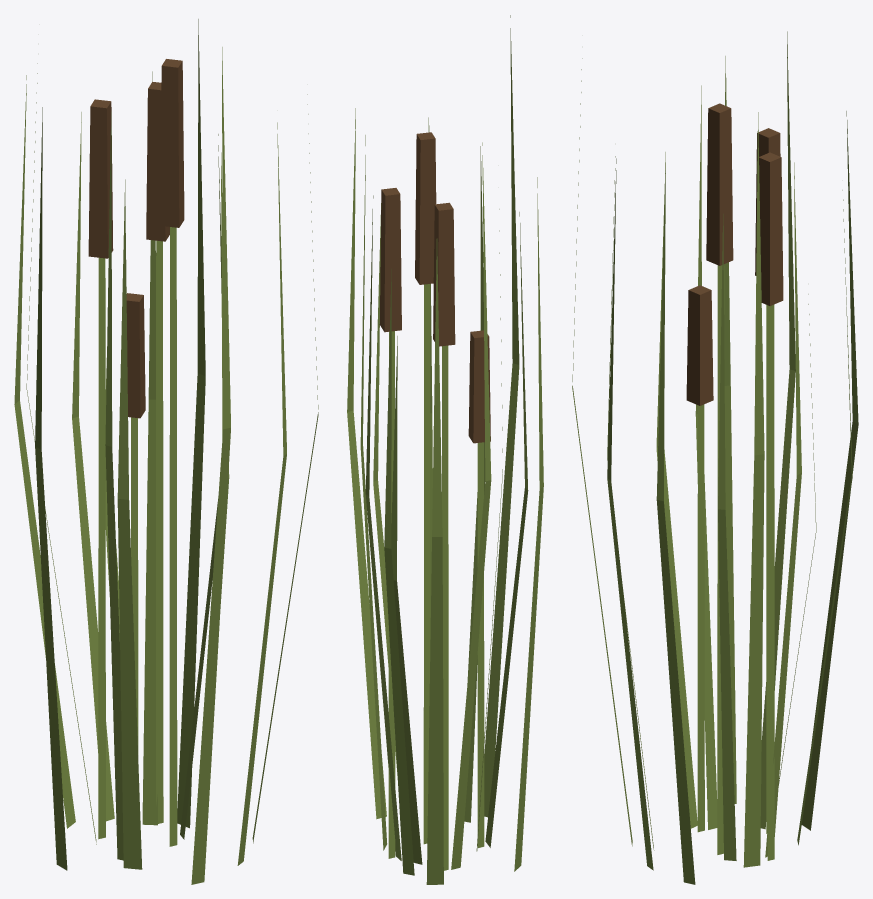
The picture shows the model from 3 angles, left to right: view 1: azimuth 30°, elevation 25°; view 2: azimuth 150°, elevation 25°; view 3: azimuth 270°, elevation 25°; orthographic projection. The views are drawn at different scales.
Parts seen in each view (by area): view 1: 草_11; view 2: 草_11; view 3: 草_11.
Boxes of the visible parts, <box> form: 草_11: <box>14,19,318,884</box>; 草_11: <box>347,15,543,884</box>; 草_11: <box>572,31,858,884</box>.
Bounding box in the file's own units: 0.5658 × 1.9 × 0.593.
